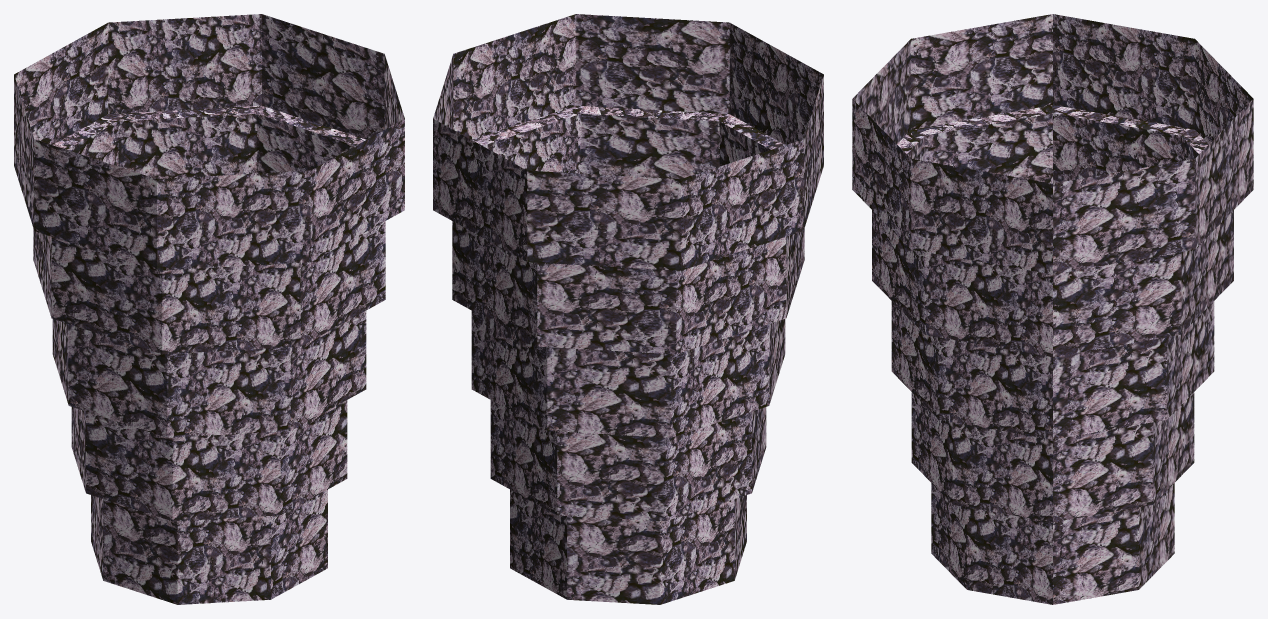
Rendered from OceanTest_All_Applied.glb.
The picture shows the model from 3 angles, left to right: view 1: azimuth 30°, elevation 25°; view 2: azimuth 150°, elevation 25°; view 3: azimuth 270°, elevation 25°; orthographic projection.
Parts seen in each view (by area): view 1: Caverne; view 2: Caverne; view 3: Caverne.
Part boxes in pixels (x1,y1,x2,y2): Caverne: (14, 14, 404, 604); Caverne: (433, 14, 823, 604); Caverne: (852, 14, 1253, 604).
Bounding box in the file's own units: 400 × 502 × 400.
4 materials, 3 textured.
